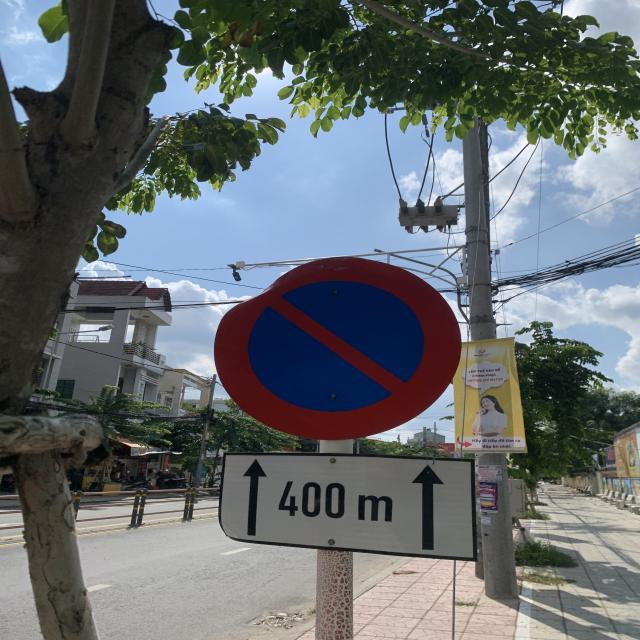Cam_Dau_Xe: (215, 256, 466, 444)
